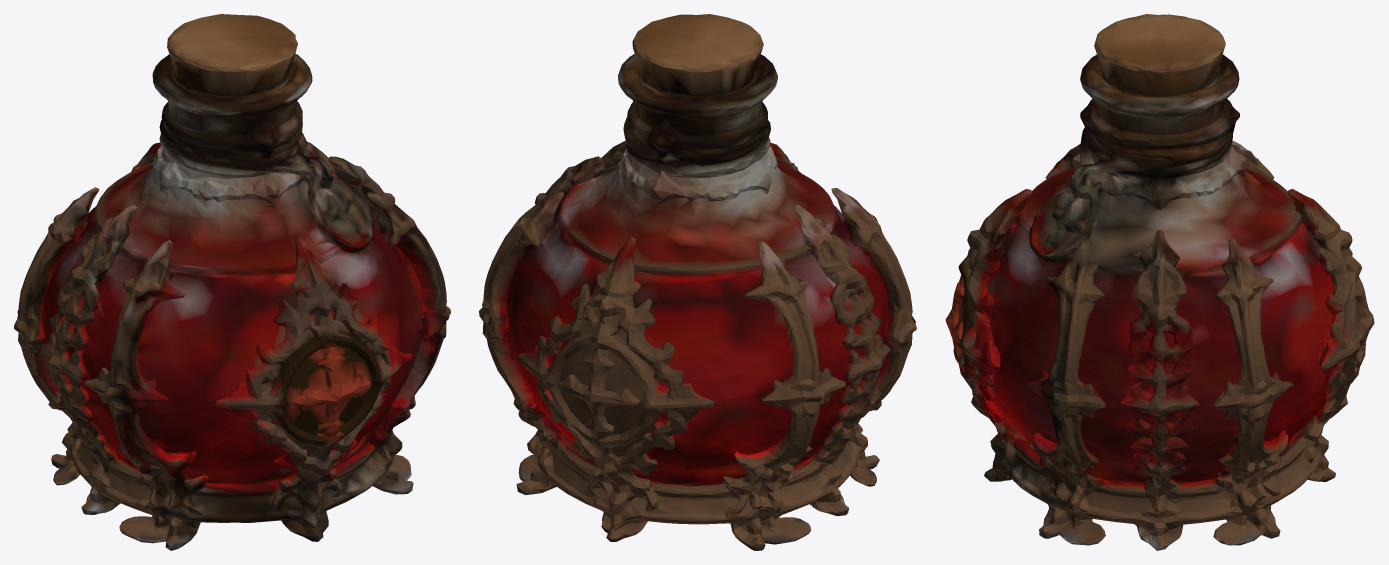
Rendered from pocao_cura.glb.
3 renders of one model, left to right at view 1: azimuth 30°, elevation 25°; view 2: azimuth 150°, elevation 25°; view 3: azimuth 270°, elevation 25°, orthographic.
Parts seen in each view (by area): view 1: tmp1_k36q37.ply; view 2: tmp1_k36q37.ply; view 3: tmp1_k36q37.ply.
Part boxes in pixels (bbox=[...]): tmp1_k36q37.ply: bbox=[14, 14, 450, 550]; tmp1_k36q37.ply: bbox=[479, 14, 916, 550]; tmp1_k36q37.ply: bbox=[945, 14, 1374, 550].
Size of the model in its own units: 1.71 by 1.97 by 1.73.
